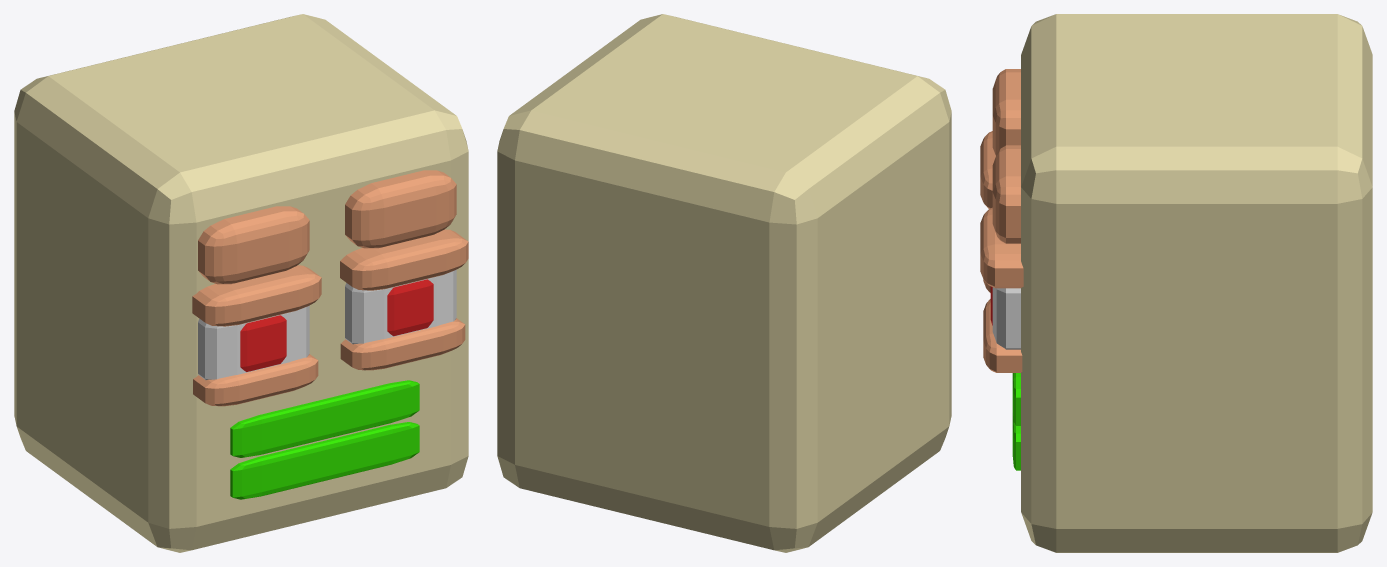
Rendered from robotTo.glb.
3 views of the same model, side by side, from view 1: azimuth 30°, elevation 25°; view 2: azimuth 150°, elevation 25°; view 3: azimuth 270°, elevation 25° (orthographic). The views are drawn at different scales.
Parts seen in each view (by area): view 1: robot_haed; view 2: robot_haed; view 3: robot_haed.
Part boxes in pixels (x1=…): robot_haed: x1=14, y1=14, x2=468, y2=552; robot_haed: x1=497, y1=14, x2=951, y2=552; robot_haed: x1=980, y1=14, x2=1372, y2=552.
Size of the model in its own units: 0.7 by 0.8 by 0.7.
